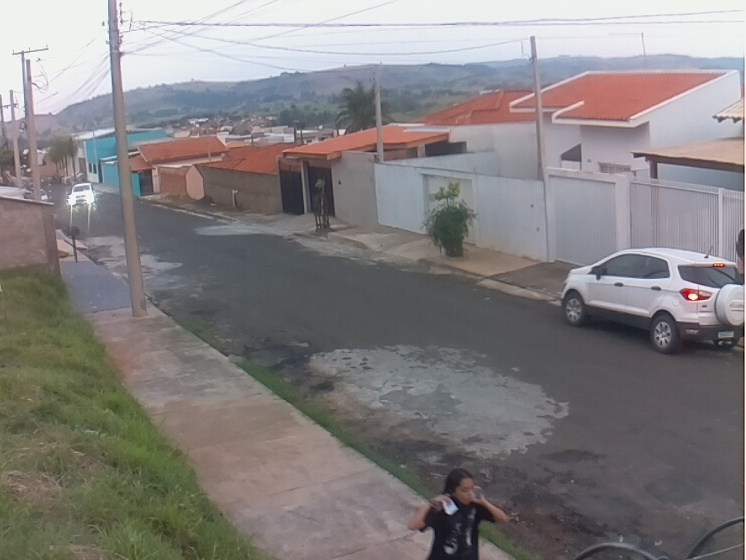person: (406, 466, 510, 560)
